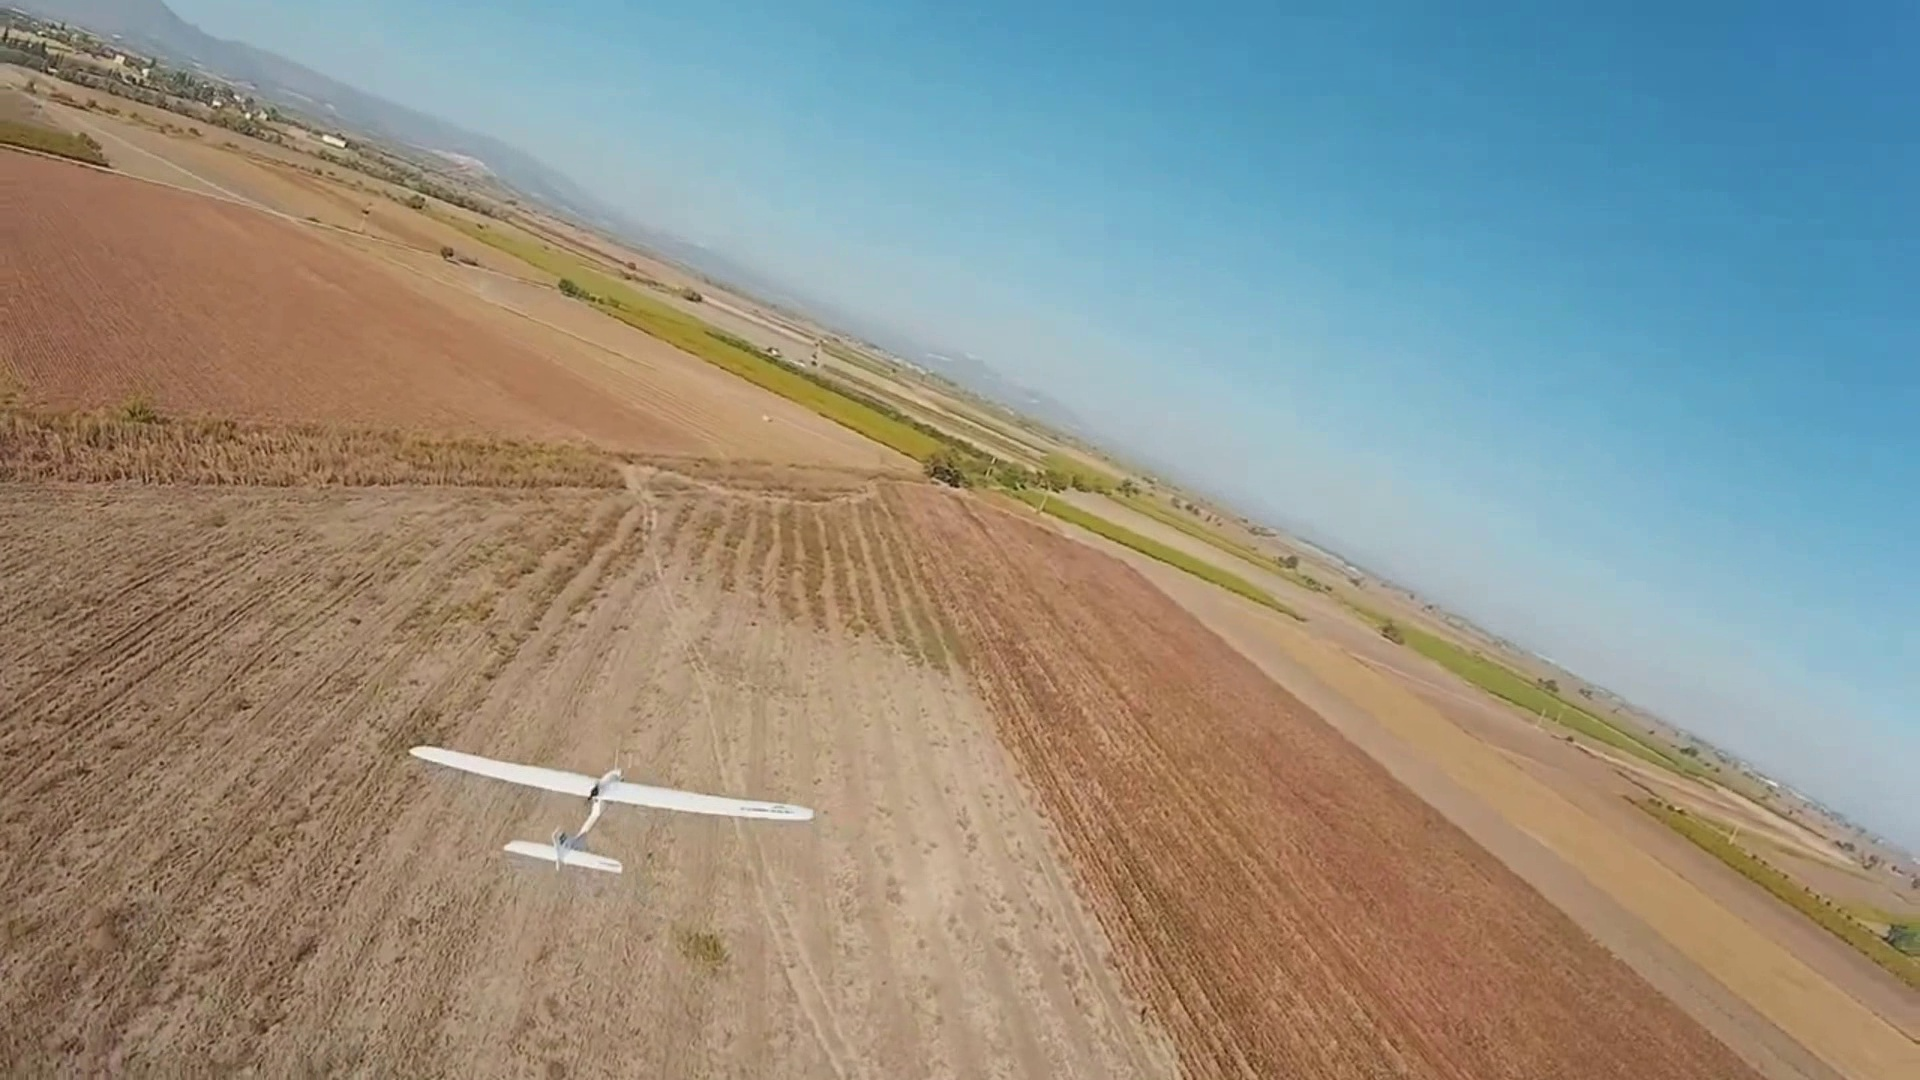airplane: (405, 745, 818, 873)
